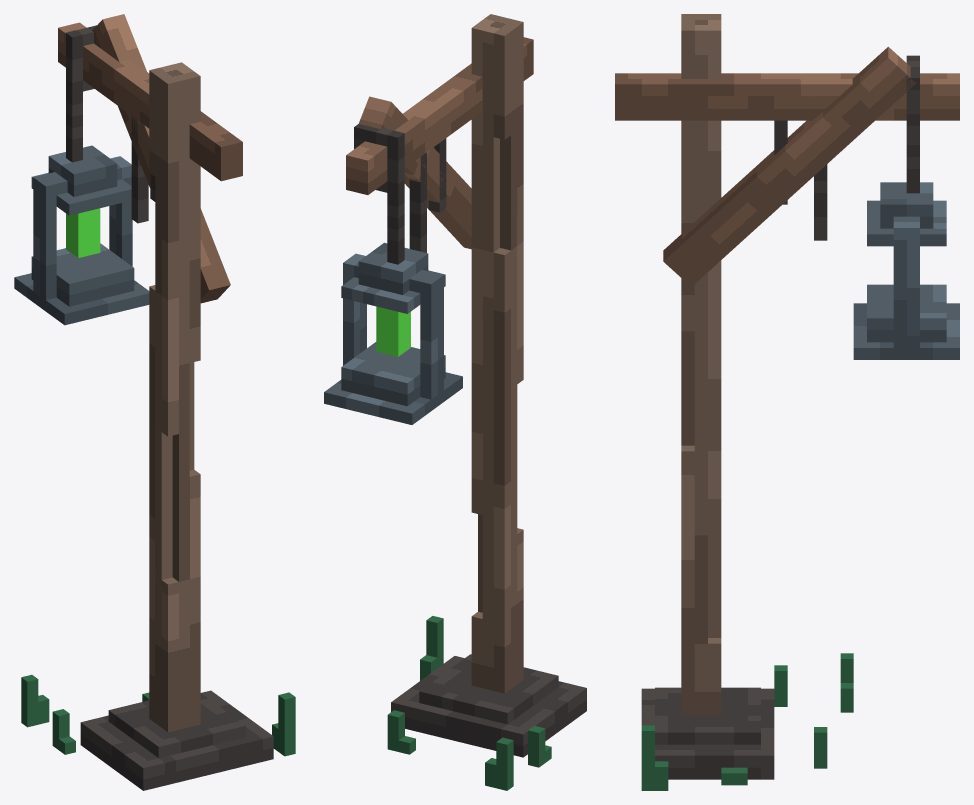
3 views of the same model, side by side, from view 1: azimuth 30°, elevation 25°; view 2: azimuth 150°, elevation 25°; view 3: azimuth 270°, elevation 25° (orthographic). The views are drawn at different scales.
Parts seen in each view (by area): view 1: lamp-Local, post_b-Local; view 2: lamp-Local, post_b-Local; view 3: lamp-Local, post_b-Local.
Part boxes in pixels (x1,y1,x2,y2): lamp-Local: (14, 22, 295, 790); post_b-Local: (92, 14, 230, 303); lamp-Local: (324, 14, 586, 790); post_b-Local: (358, 96, 471, 249); lamp-Local: (615, 14, 959, 790); post_b-Local: (663, 46, 916, 286).
Bounding box in the file's own units: 16 × 60 × 26.
2 materials, 2 textured.
